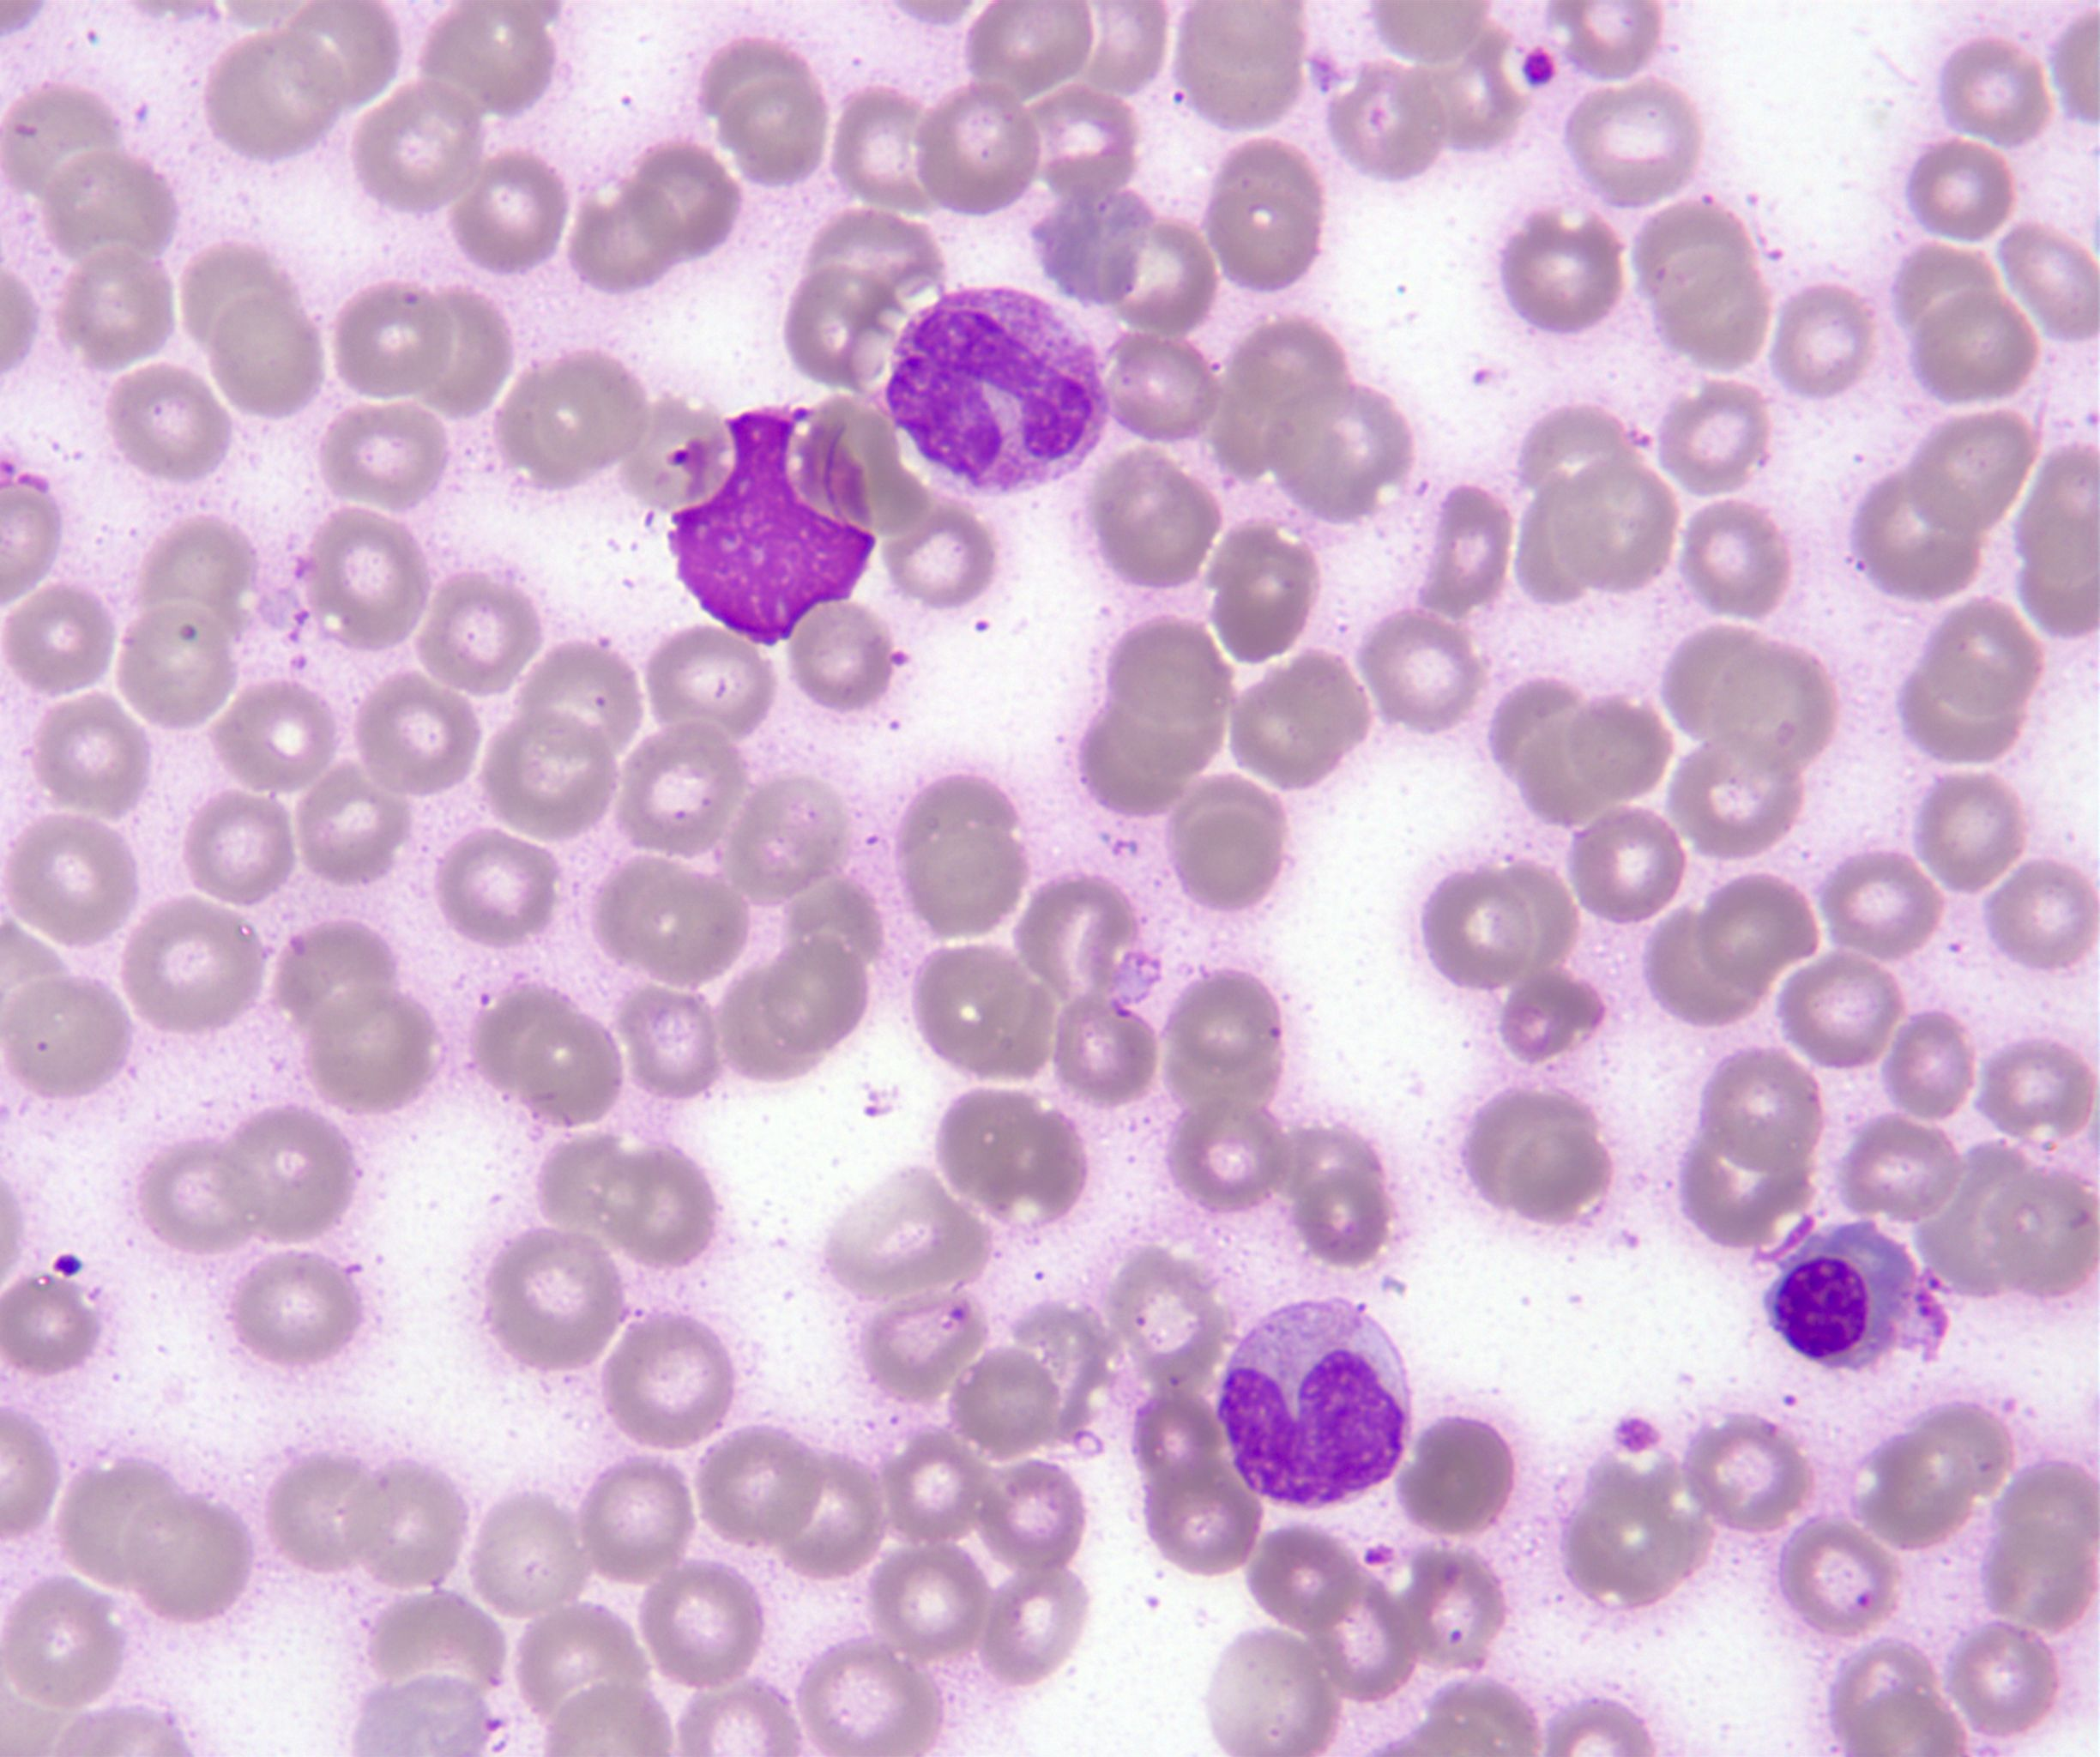23: (1762, 1220, 1915, 1368)
42: (1217, 1300, 1411, 1511)
5: (884, 286, 1106, 496)
x: (652, 407, 877, 647)
